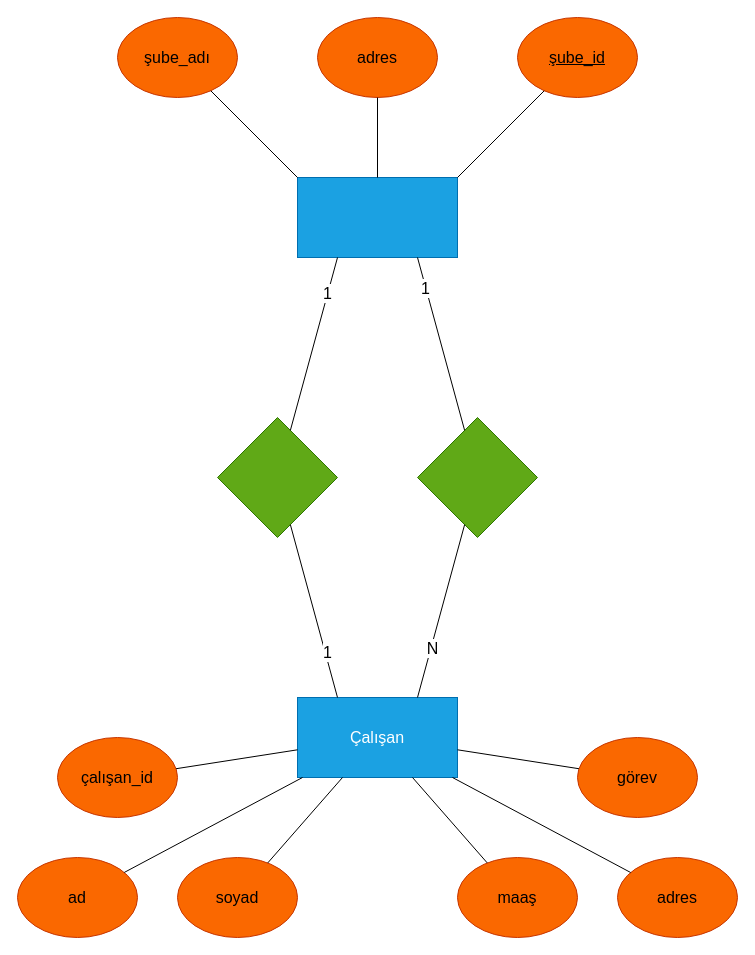
Image size: 755x955. Some labels were removed from this diagram. The box of each missing label's shape, as (x1, y1, x2, y2) in pixels:
Yönetir: (216, 416, 338, 538)
Çalışır: (416, 416, 538, 538)
Şube: (296, 176, 458, 258)
